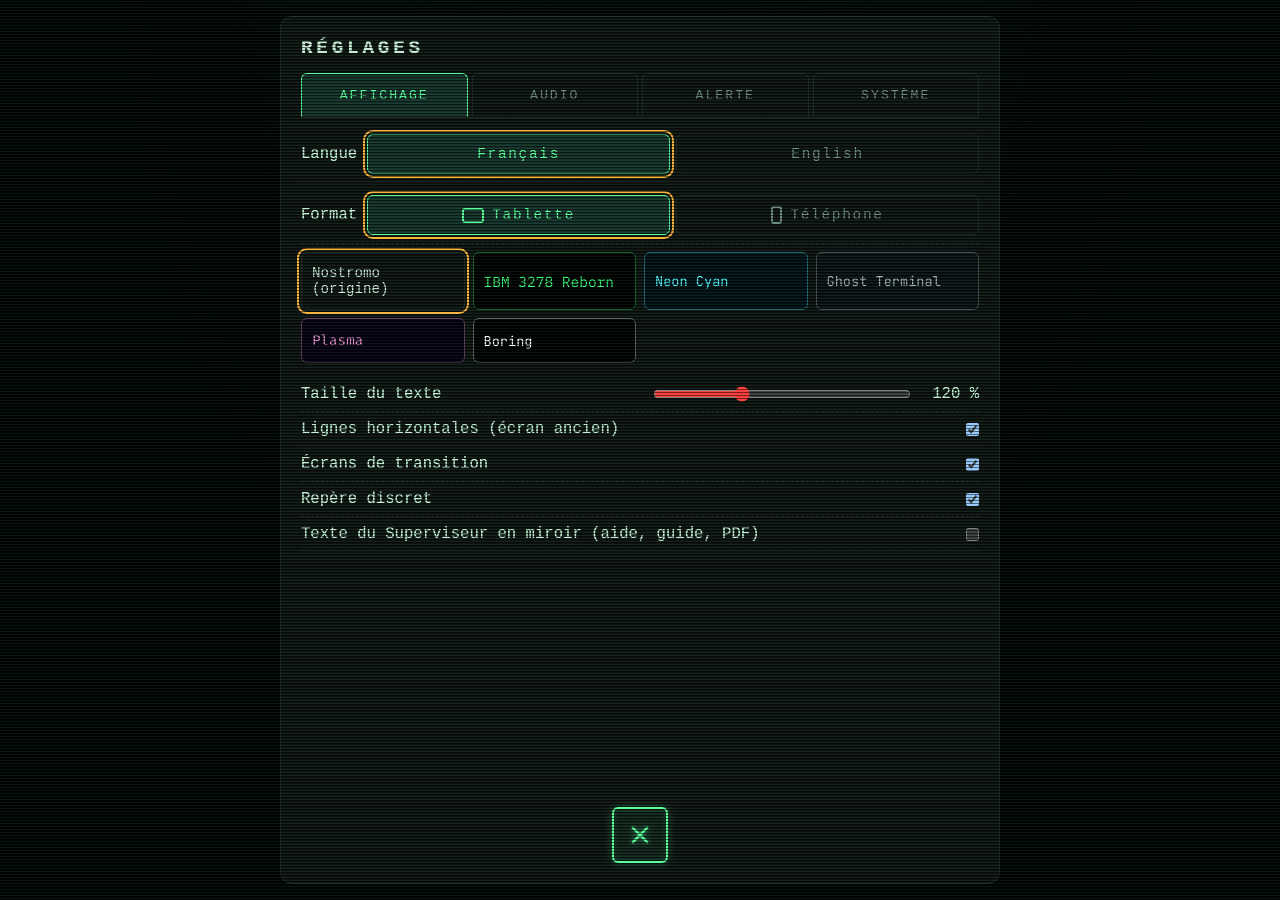
Test: onglet Affichage : choix de la langue, l'écran passe aussitôt en anglais, et revient en français
Click the radio button with id "setLang-en": (828, 154) x1=676 y1=134 x2=979 y2=174
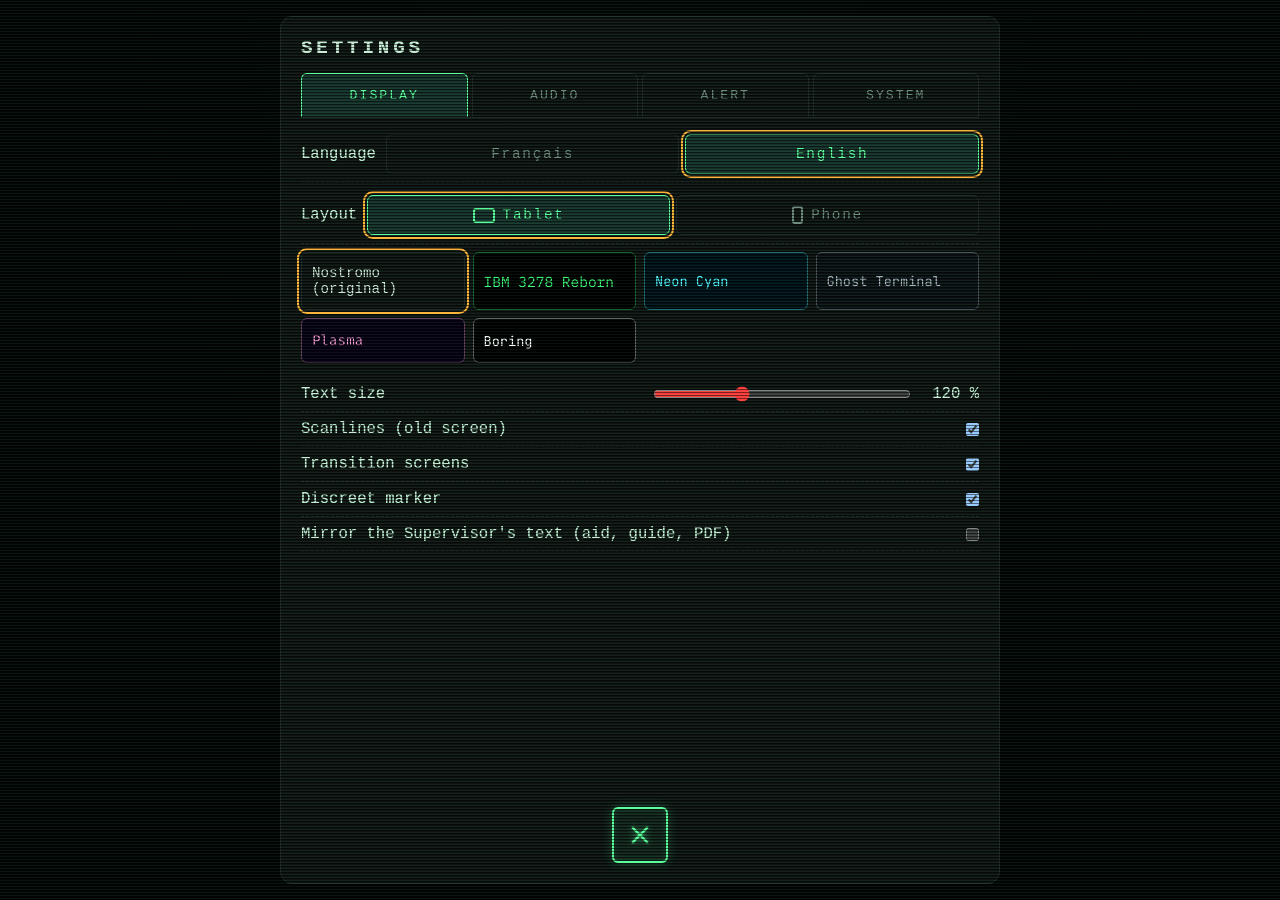
expect the heading "SETTINGS" is shown: met, box x1=301 y1=37 x2=424 y2=59
Click the radio button with id "setLang-fr": (533, 154) x1=386 y1=134 x2=680 y2=174
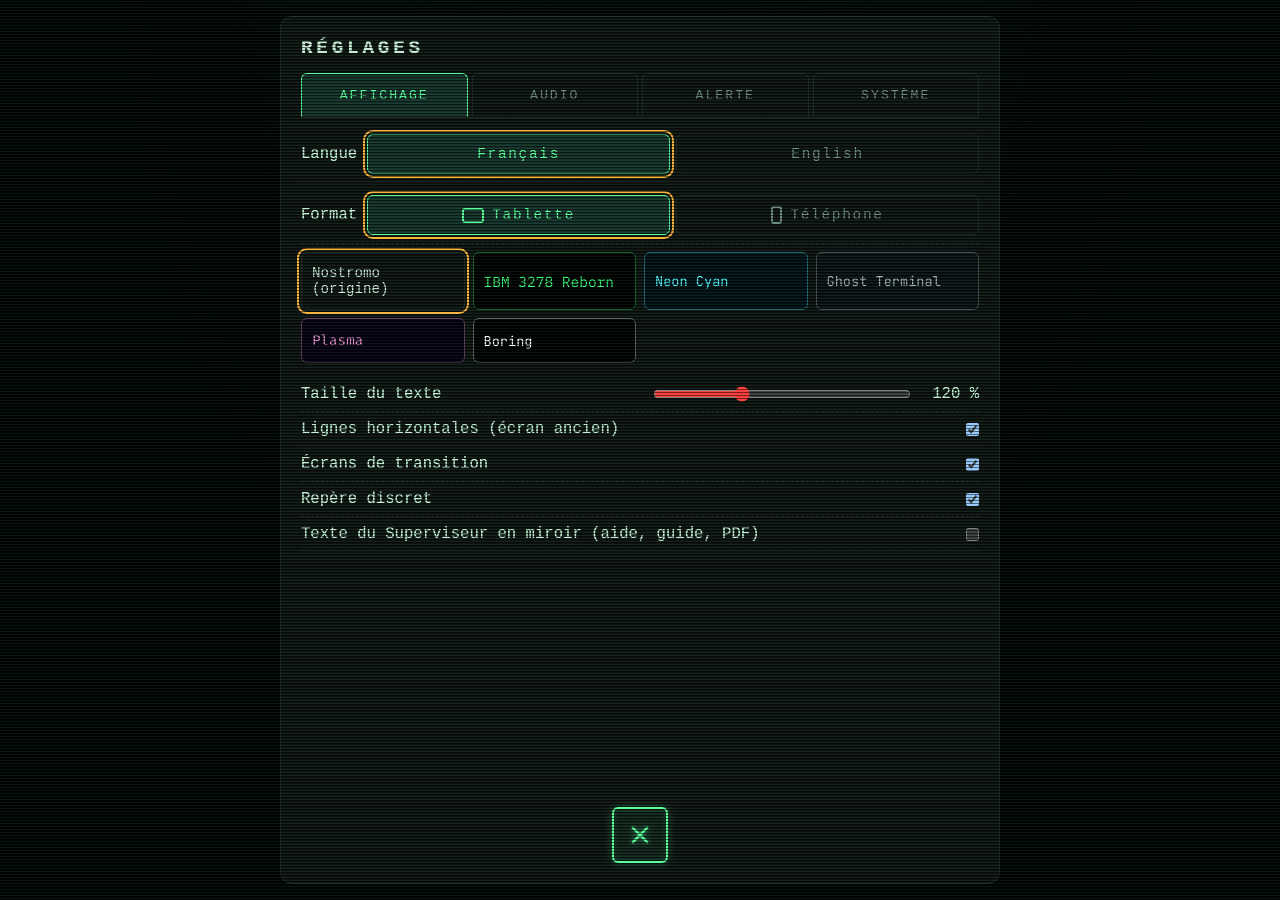
expect the heading "RÉGLAGES" is shown: met, box x1=301 y1=37 x2=424 y2=59
